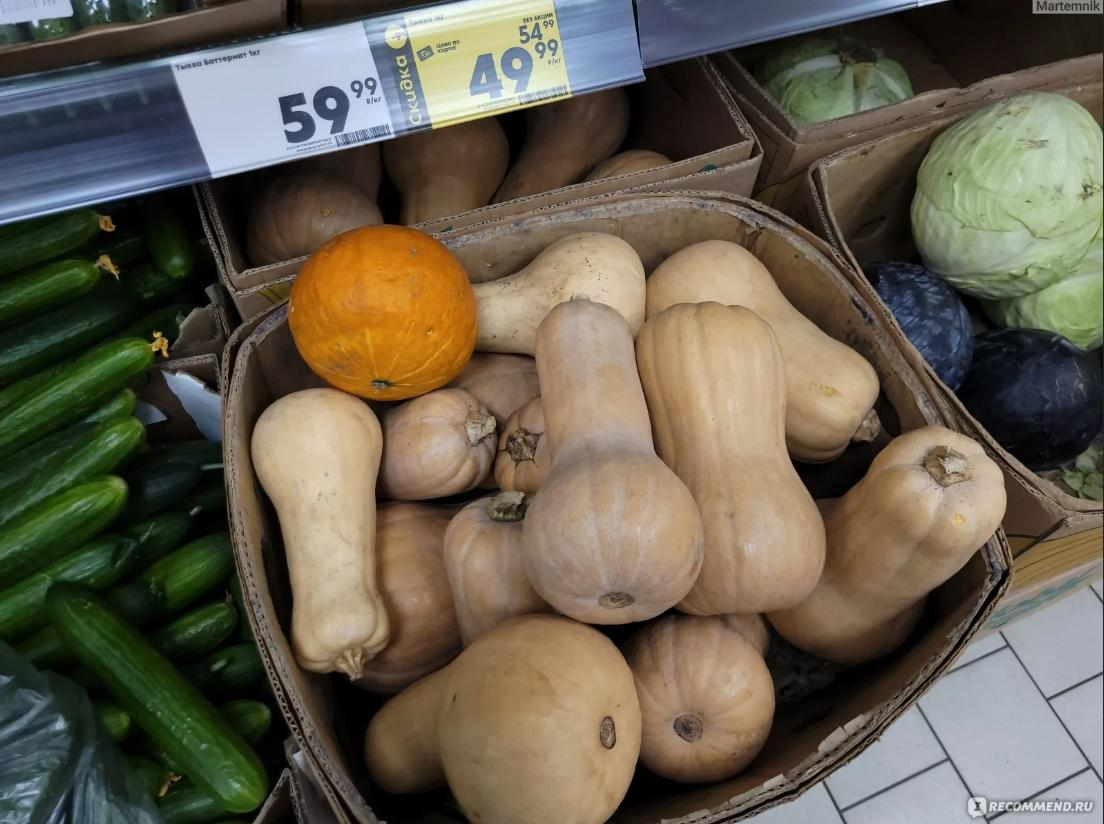butternut squash: (284, 241, 980, 824), (262, 131, 664, 235)
cabbage: (916, 94, 1104, 414), (925, 99, 1104, 364), (769, 45, 924, 132)
cucumber: (0, 197, 265, 824)
pumpkin: (261, 217, 501, 403)
